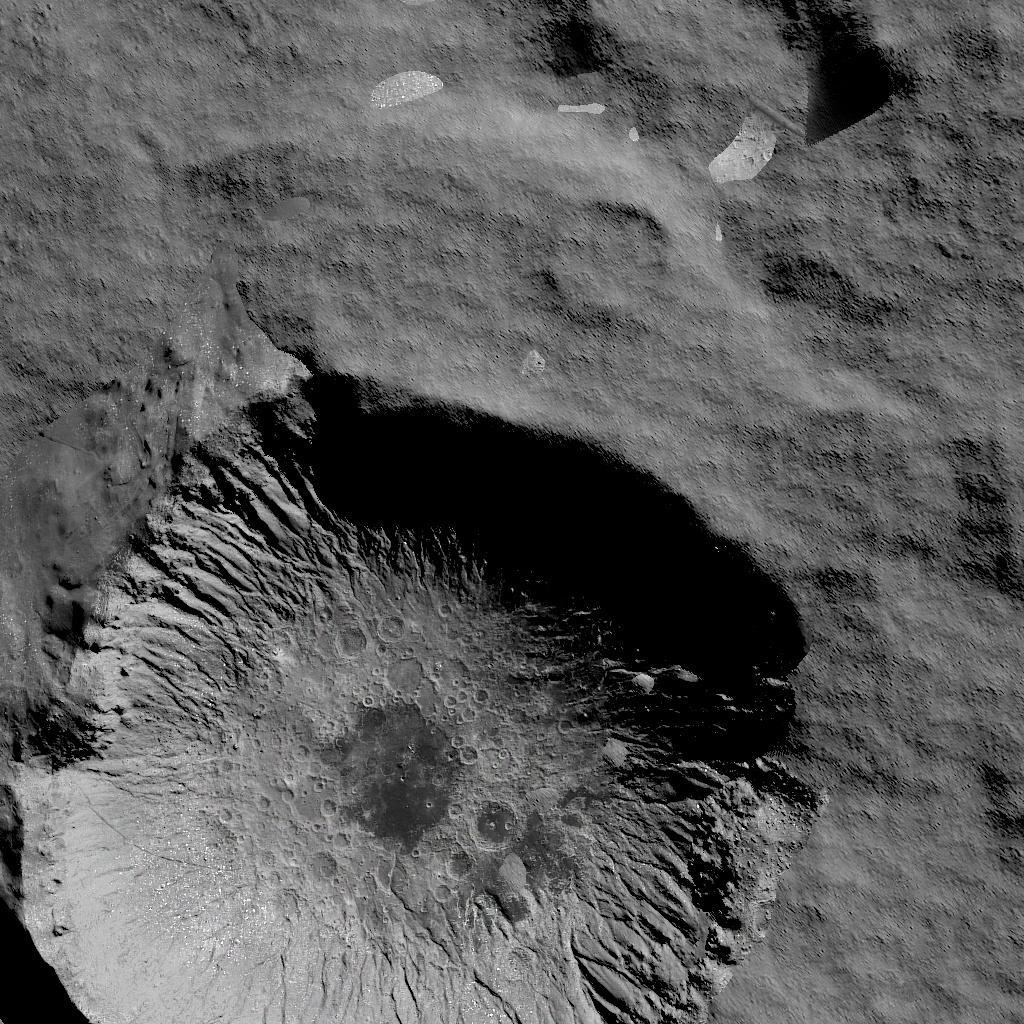Crater: (0, 285, 921, 1024)
Plan surface: (9, 2, 1024, 258)
